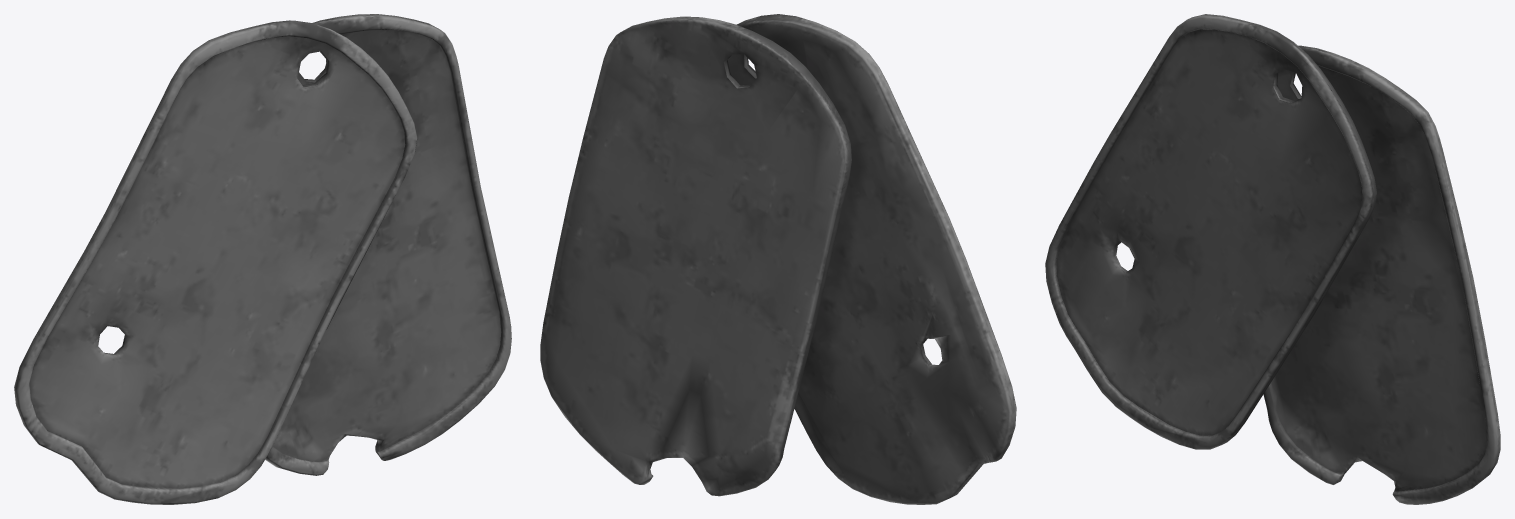
File: item-tags.glb
3 views of the same model, side by side, from view 1: azimuth 30°, elevation 25°; view 2: azimuth 150°, elevation 25°; view 3: azimuth 330°, elevation 25° (orthographic). The views are drawn at different scales.
Visible parts, largest first — view 1: base; view 2: base; view 3: base.
Boxes of the visible parts, bbox=[...] form: base: bbox=[14, 14, 511, 504]; base: bbox=[540, 14, 1016, 504]; base: bbox=[1045, 14, 1500, 504].
Bounding box in the file's own units: 0.5 × 0.4793 × 0.0668.
1 material, 1 textured.
